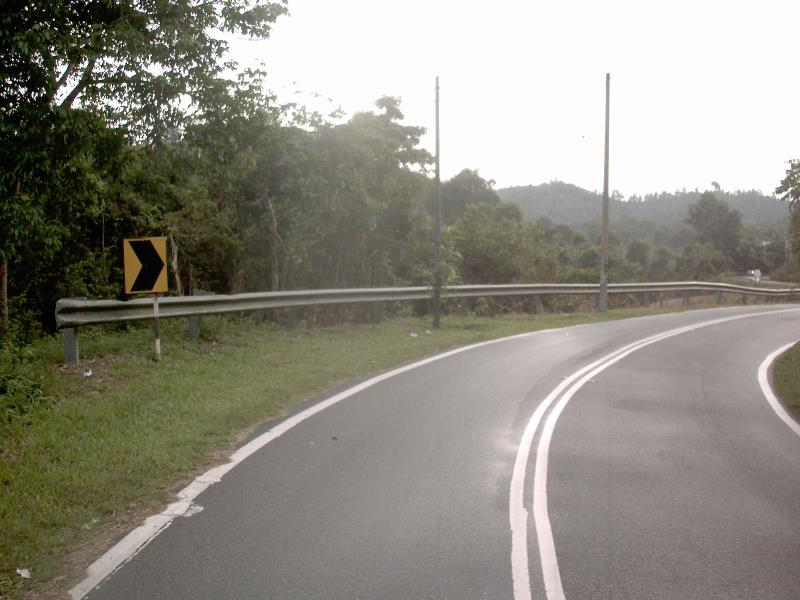traffic_sign: (111, 228, 178, 303)
